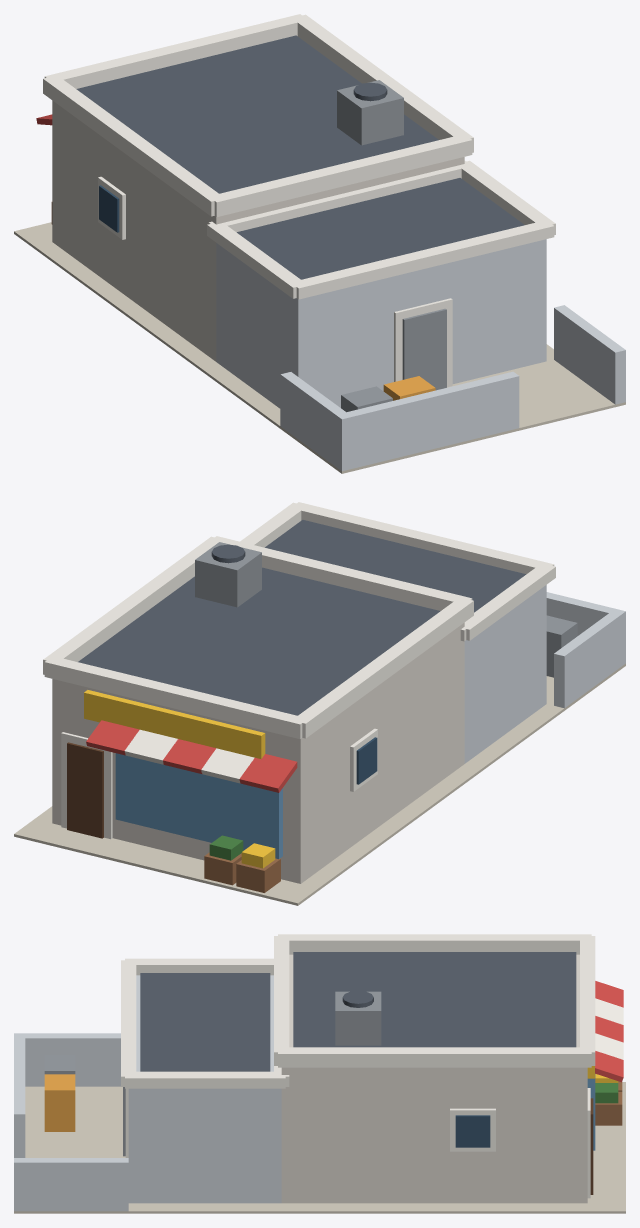
3 views of the same model, one above another, from view 1: azimuth 30°, elevation 25°; view 2: azimuth 150°, elevation 25°; view 3: azimuth 270°, elevation 25° (orthographic). The views are drawn at different scales.
Parts seen in each view (by area): view 1: roof (×2), stockroom, parapet (×8), shop, yard_wall (×3), ground, garage_door, ac_unit_body, bin (×2), garage_door_frame, window_glass, window_frame; view 2: roof (×2), shop, parapet (×7), ground, storefront, stockroom, awning_stripe (×5), yard_wall (×2), sign, door, ac_unit_body, crate (×2) (+5 smaller); view 3: shop, roof (×2), parapet (×7), stockroom, ground, yard_wall (×3), awning_stripe (×5), bin (×2), ac_unit_body, window_glass, window_frame, crate (+3 smaller).
Part boxes in pixels (x1,y1,x2,y2): roof (×2): [76, 35, 524, 279]; stockroom: [216, 239, 546, 408]; parapet (×8): [43, 14, 555, 299]; shop: [52, 100, 464, 361]; yard_wall (×3): [280, 305, 625, 471]; ground: [14, 222, 625, 473]; garage_door: [402, 308, 446, 390]; ac_unit_body: [337, 80, 403, 145]; bin (×2): [341, 376, 435, 412]; garage_door_frame: [394, 298, 452, 387]; window_glass: [99, 185, 119, 232]; window_frame: [98, 176, 125, 239]; roof (×2): [78, 520, 525, 715]; shop: [52, 622, 464, 883]; parapet (×7): [43, 502, 555, 738]; ground: [14, 663, 625, 905]; storefront: [115, 753, 282, 859]; stockroom: [464, 585, 546, 763]; awning_stripe (×5): [86, 720, 297, 792]; yard_wall (×2): [546, 592, 625, 708]; sign: [84, 690, 265, 758]; door: [67, 742, 103, 838]; ac_unit_body: [195, 542, 261, 607]; crate (×2): [204, 852, 280, 892]; shop: [281, 954, 587, 1203]; roof (×2): [140, 952, 576, 1071]; parapet (×7): [121, 934, 595, 1088]; stockroom: [128, 975, 281, 1203]; ground: [14, 1082, 625, 1213]; yard_wall (×3): [14, 1033, 128, 1211]; awning_stripe (×5): [595, 981, 623, 1082]; bin (×2): [44, 1055, 75, 1131]; ac_unit_body: [335, 991, 381, 1045]; window_glass: [455, 1115, 490, 1147]; window_frame: [450, 1108, 495, 1151]; crate: [595, 1092, 622, 1125].
Bounding box in the file's own units: 8 × 5.31 × 16.
